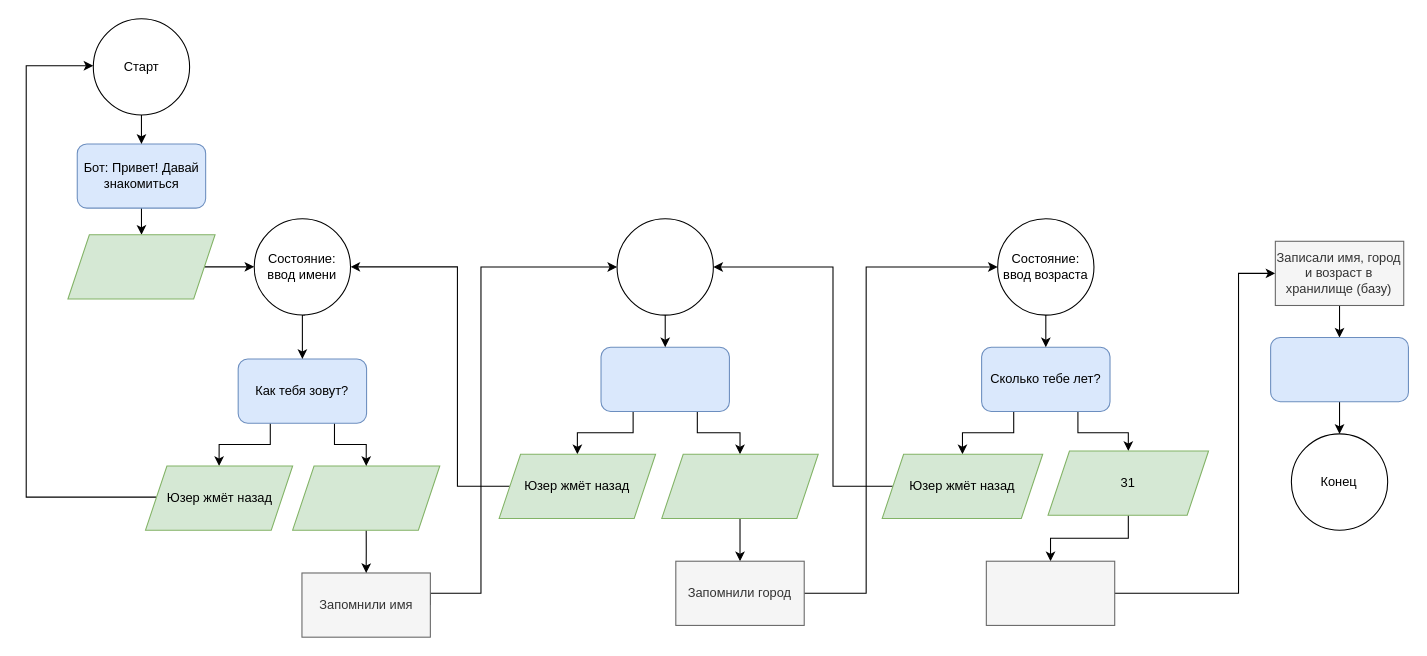
Image size: 1427x656. Some labels were removed from this diagram. Each missing label, with the centre of its shape:
"Болото" goes at point (739, 485).
"Запомнили возраст" goes at point (1050, 592).
"Откуда ты?" goes at point (664, 378).
"Состояние: ввод города" goes at point (664, 266).
"Теперь мы знакомы!" goes at point (1339, 369).
"Шрек" goes at point (366, 497).
"Юзер: го" goes at point (141, 266).
